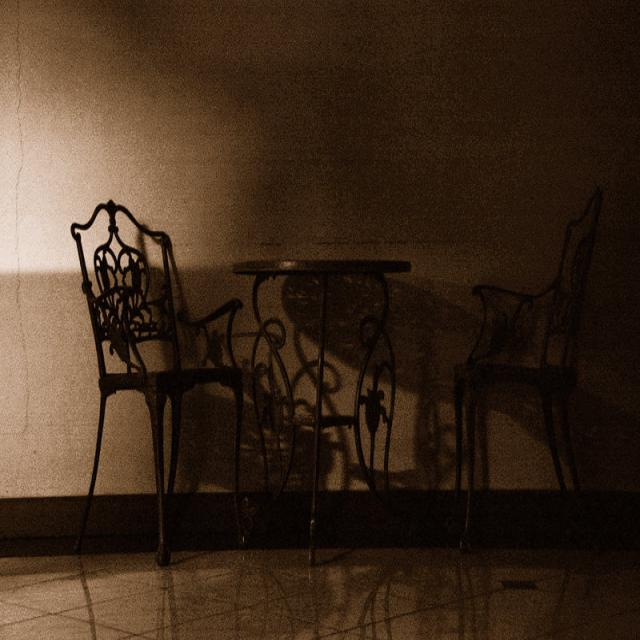Table: (234, 222, 436, 572)
chair: (438, 177, 635, 588), (47, 219, 248, 579)
